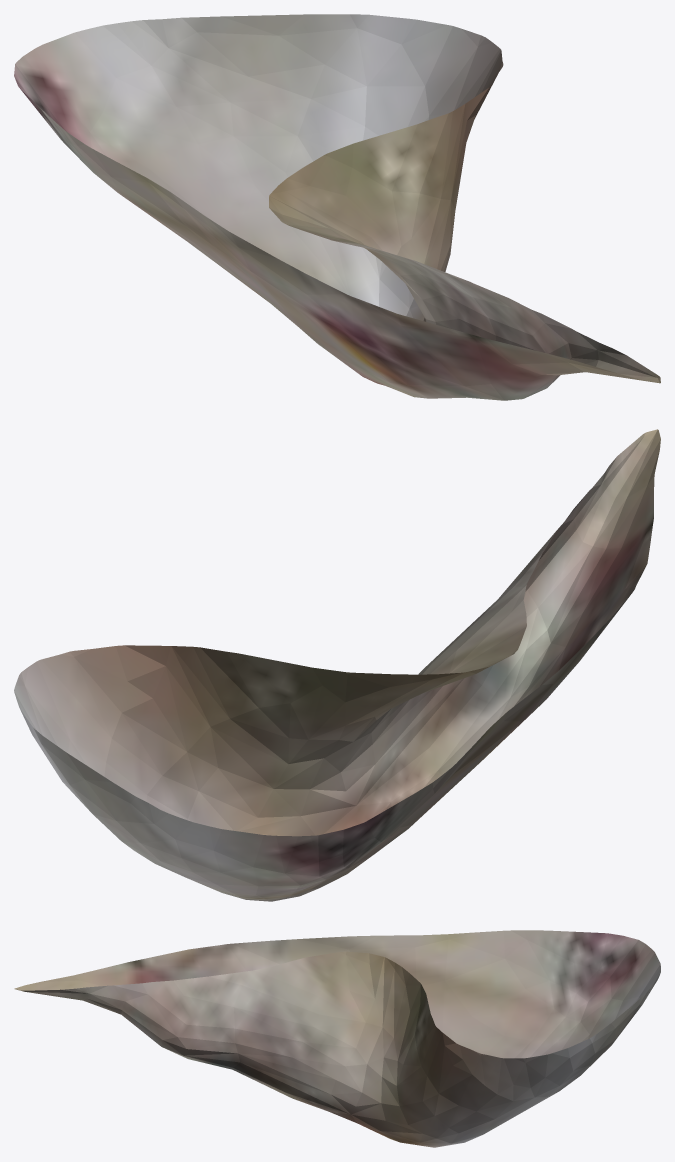
3 renders of one model, top to bottom at view 1: azimuth 30°, elevation 25°; view 2: azimuth 150°, elevation 25°; view 3: azimuth 270°, elevation 25°, orthographic. The views are drawn at different scales.
Visible parts, largest first — view 1: 091_W_Aya_100K_01; view 2: 091_W_Aya_100K_01; view 3: 091_W_Aya_100K_01.
Part boxes in pixels (box(x1,y1,x2,y2)): 091_W_Aya_100K_01: box(14, 14, 660, 400); 091_W_Aya_100K_01: box(14, 429, 660, 901); 091_W_Aya_100K_01: box(14, 930, 660, 1147).
Size of the model in its own units: 45.87 by 23.97 by 97.81.
Materials: 1 (1 with a texture image).
